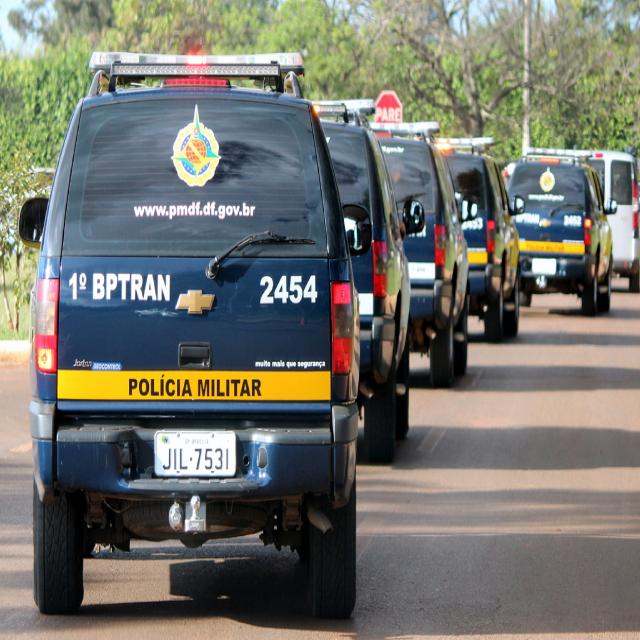car: (15, 0, 367, 619)
